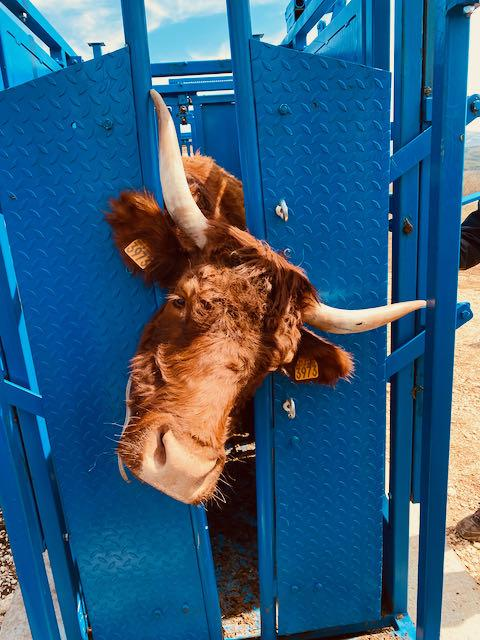muzzles: (120, 405, 224, 508)
